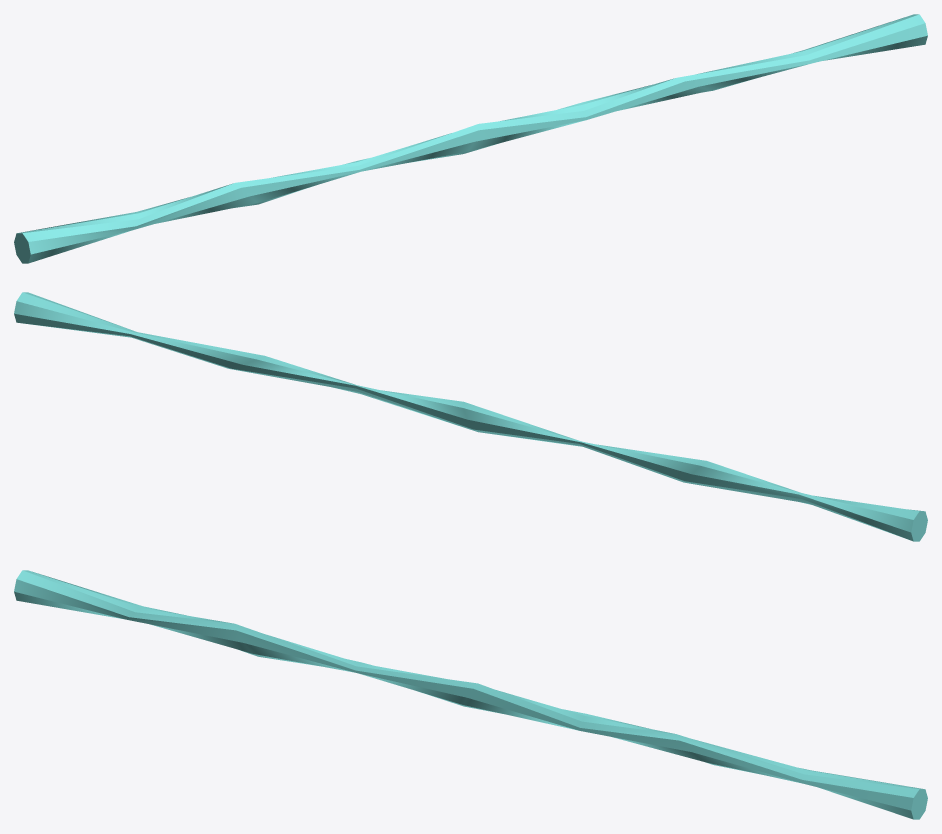
File: water_flow.fbx
3 views of the same model, one above another, from view 1: azimuth 30°, elevation 25°; view 2: azimuth 150°, elevation 25°; view 3: azimuth 330°, elevation 25° (orthographic).
Visible parts, largest first — view 1: pCylinder3; view 2: pCylinder3; view 3: pCylinder3.
Part boxes in pixels (box(x1,y1,x2,y2)): pCylinder3: box(14, 14, 927, 263); pCylinder3: box(14, 292, 927, 541); pCylinder3: box(14, 570, 927, 819).
Bounding box in the file's own units: 10.06 × 0.3265 × 0.3265.
